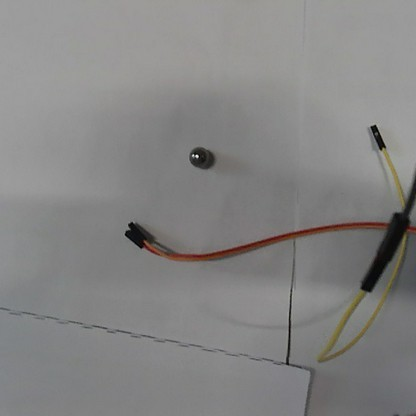ironball: (184, 140, 212, 169)
